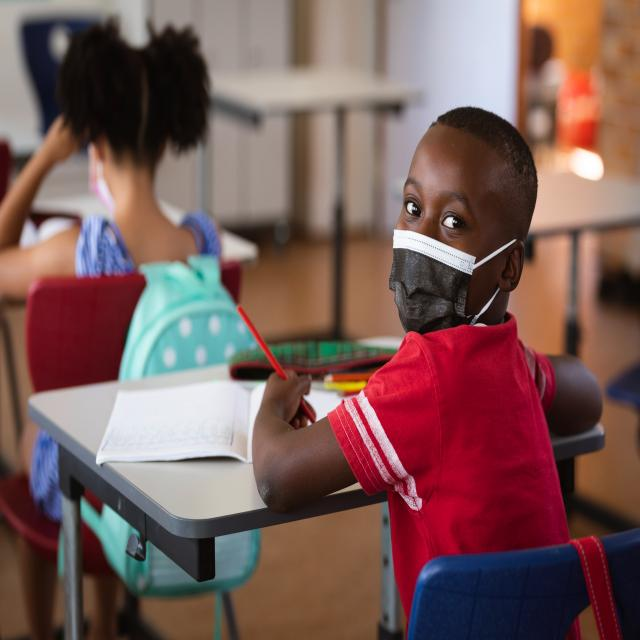child: (251, 100, 606, 640), (0, 27, 226, 506)
